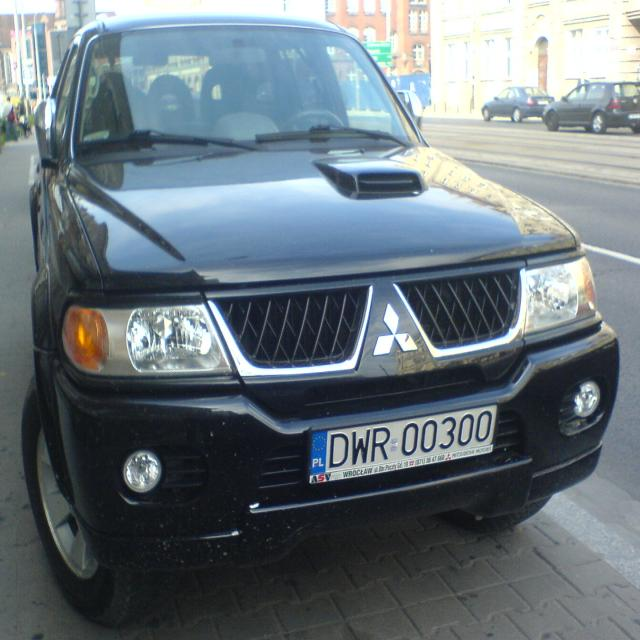pl_license_plate: (310, 402, 497, 473)
